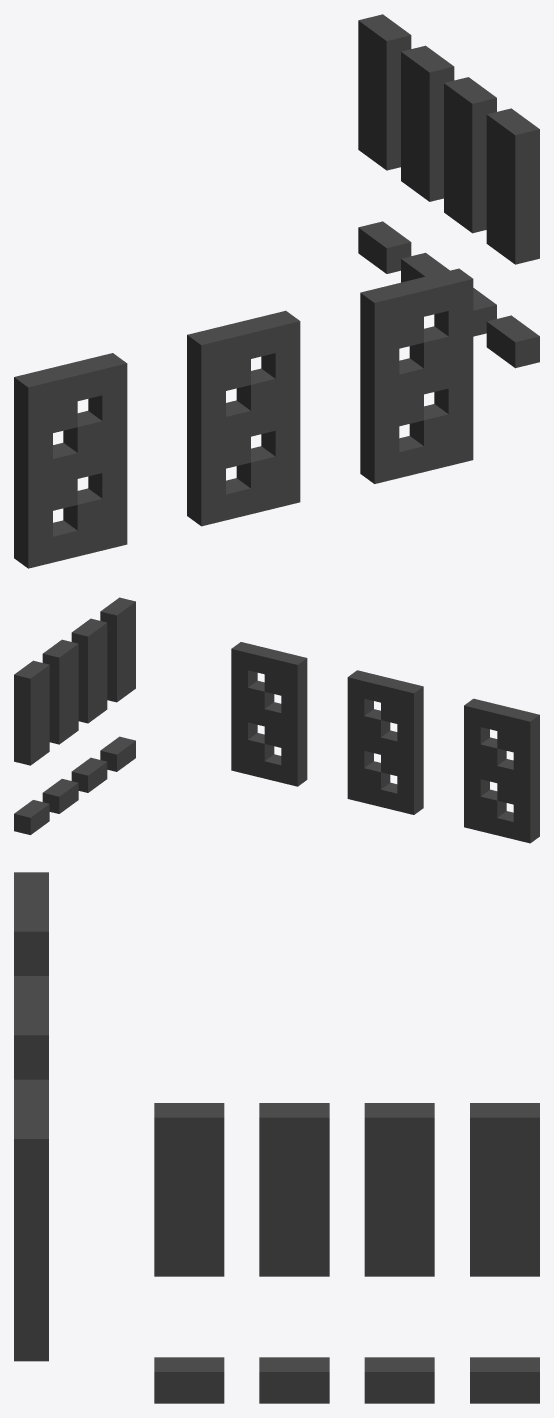
Rendered from fabrica-1.obj.
The picture shows the model from 3 angles, top to bottom: view 1: azimuth 30°, elevation 25°; view 2: azimuth 150°, elevation 25°; view 3: azimuth 270°, elevation 25°; orthographic projection. The views are drawn at different scales.
Bounding box in the file's own units: 2.3 × 1 × 1.5.
